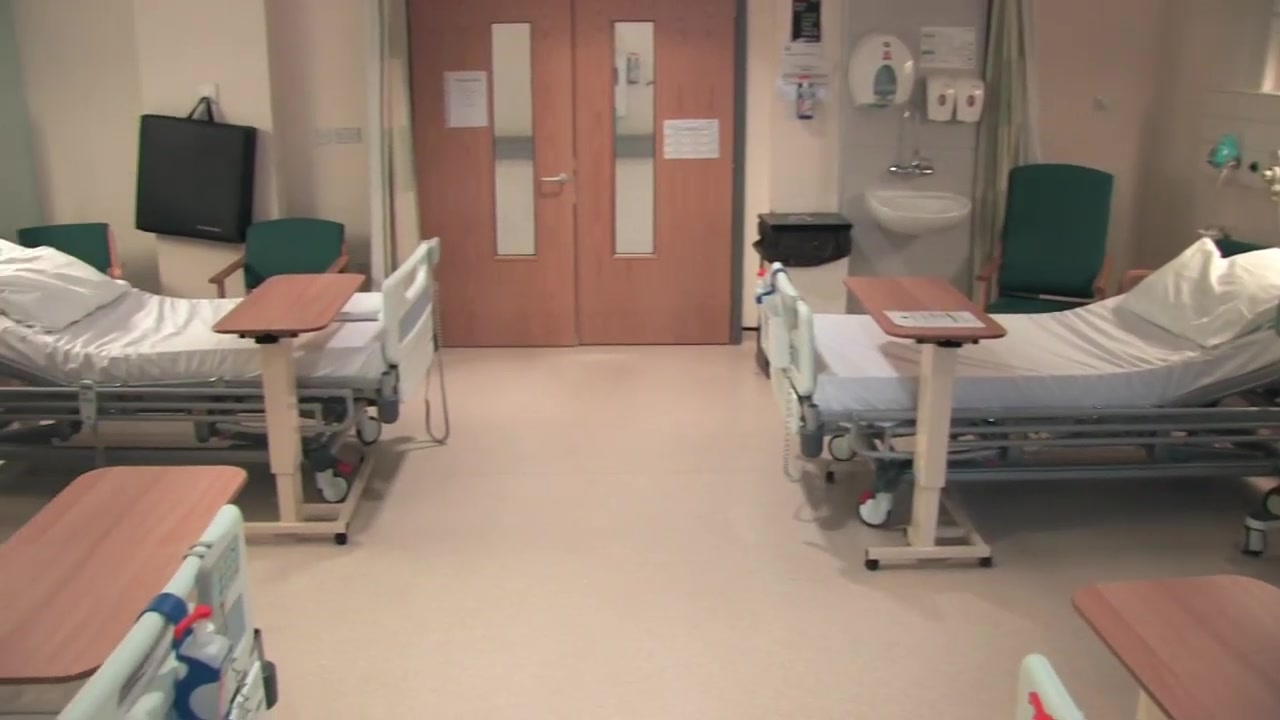chair: (977, 163, 1116, 310), (209, 216, 350, 298), (17, 221, 128, 279)
dispenser: (845, 32, 916, 109), (955, 75, 984, 122), (927, 75, 955, 122)
door_handle: (539, 175, 565, 185)
faucet: (882, 106, 938, 176)
foot_board: (46, 502, 291, 720), (379, 239, 448, 371), (755, 260, 818, 402)
hospital_bed: (761, 233, 1280, 542), (1, 214, 440, 502)
overbed_table: (1, 463, 244, 681), (209, 273, 377, 544), (841, 272, 998, 561), (1068, 576, 1280, 720)
sink: (867, 186, 972, 236)
waste_bin: (756, 206, 850, 314)
